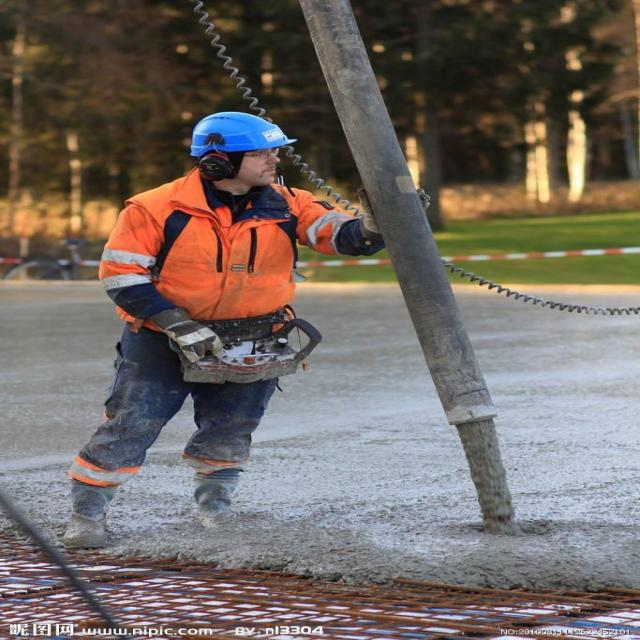helmet: (176, 110, 292, 159)
person: (54, 107, 400, 548)
vest: (95, 182, 346, 362)
